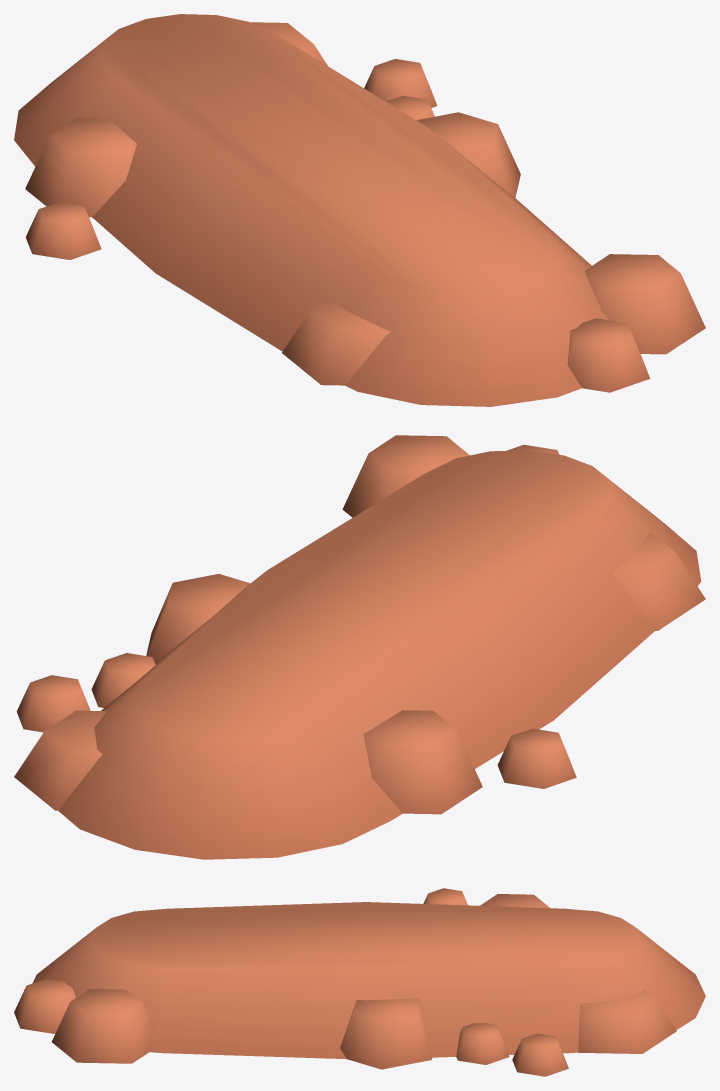
The model's file is grave.glb.
3 views of the same model, one above another, from view 1: azimuth 30°, elevation 25°; view 2: azimuth 150°, elevation 25°; view 3: azimuth 270°, elevation 25° (orthographic). The views are drawn at different scales.
Parts seen in each view (by area): view 1: grave; view 2: grave; view 3: grave.
Part boxes in pixels (x1,y1,x2,y2): grave: [14, 14, 705, 406]; grave: [14, 435, 705, 859]; grave: [14, 888, 705, 1076].
Bounding box in the file's own units: 0.7238 × 0.114 × 1.24.
1 material, 1 textured.
